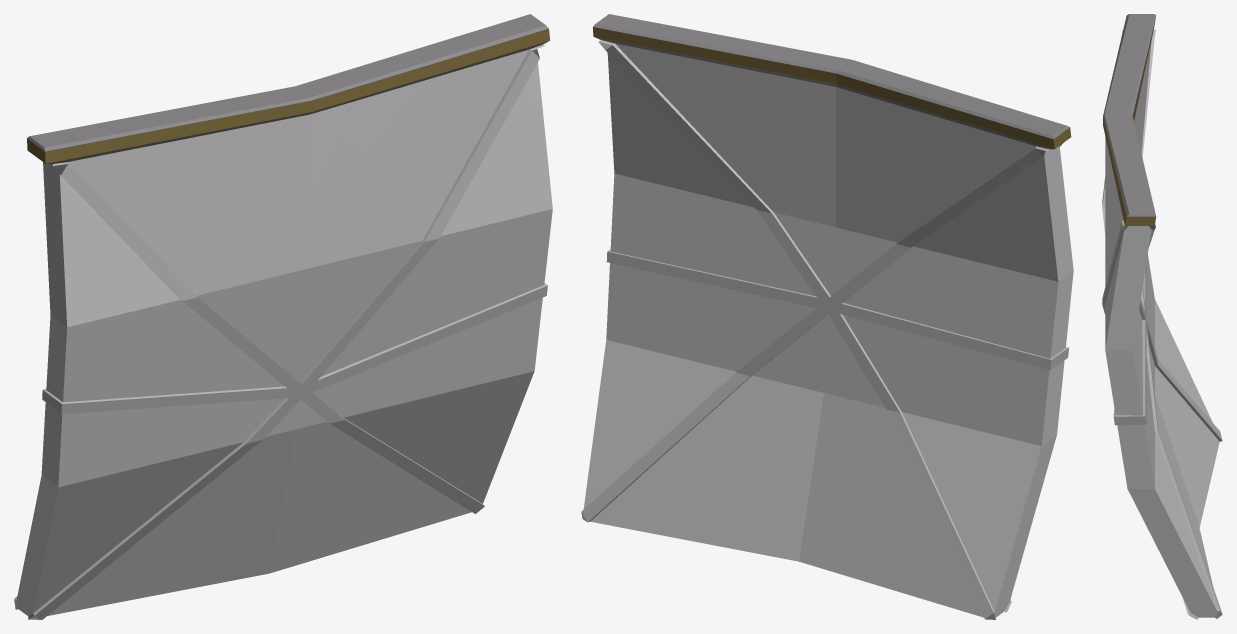
Rendered from door.fbx.
The picture shows the model from 3 angles, left to right: view 1: azimuth 30°, elevation 25°; view 2: azimuth 150°, elevation 25°; view 3: azimuth 270°, elevation 25°; orthographic projection. The views are drawn at different scales.
Parts seen in each view (by area): view 1: door; view 2: door; view 3: door.
Part boxes in pixels (left/top/right/bottom): door: left=14, top=14, right=552, bottom=619; door: left=581, top=14, right=1073, bottom=619; door: left=1102, top=14, right=1222, bottom=619.
Size of the model in its own units: 122 by 118 by 30.93.
